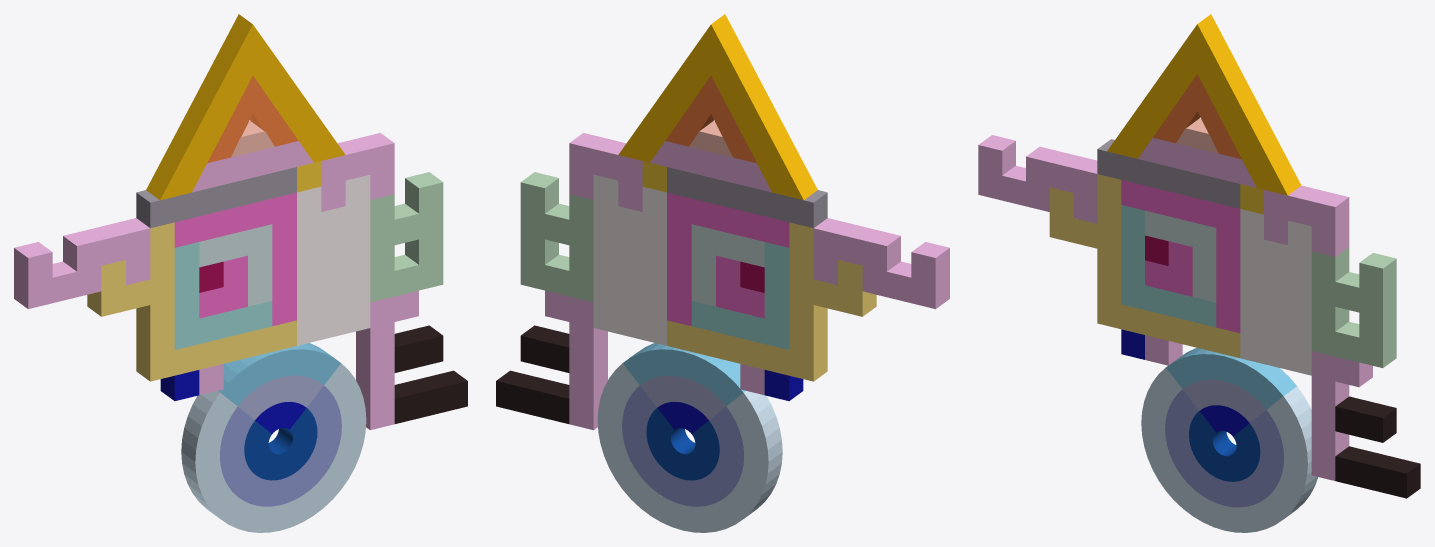
Rendered from JU CHUNG_V2.glb.
3 views of the same model, side by side, from view 1: azimuth 30°, elevation 25°; view 2: azimuth 150°, elevation 25°; view 3: azimuth 330°, elevation 25° (orthographic). The views are drawn at different scales.
Parts seen in each view (by area): view 1: Pieces.020, Pieces.024, Pieces.002, Pieces.006, Pieces.008, Pieces.018, Pieces.001, Pieces.004, Pieces.009, Pieces.013, Pieces.012, Pieces.010 (+19 smaller); view 2: Pieces.020, Pieces.024, Pieces.002, Pieces.006, Pieces.008, Pieces.018, Pieces.001, Pieces.004, Pieces.009, Pieces.013, Pieces.012, Pieces.010 (+19 smaller); view 3: Pieces.020, Pieces.024, Pieces.006, Pieces.002, Pieces.008, Pieces.018, Pieces.001, Pieces.007, Pieces.004, Pieces.009, Pieces.025, Pieces.013 (+19 smaller).
Boxes of the visible parts, <box> form: Pieces.020: <box>146,14,345,200</box>; Pieces.024: <box>181,363,366,532</box>; Pieces.002: <box>136,222,296,381</box>; Pieces.006: <box>370,172,443,302</box>; Pieces.008: <box>14,218,150,308</box>; Pieces.018: <box>220,386,341,506</box>; Pieces.001: <box>174,192,296,326</box>; Pieces.004: <box>174,242,272,349</box>; Pieces.009: <box>297,186,345,320</box>; Pieces.013: <box>136,167,296,228</box>; Pieces.012: <box>356,296,394,430</box>; Pieces.010: <box>321,175,370,308</box>; Pieces.020: <box>618,14,817,200</box>; Pieces.024: <box>597,363,782,532</box>; Pieces.002: <box>667,222,827,381</box>; Pieces.006: <box>520,172,593,302</box>; Pieces.008: <box>813,218,949,309</box>; Pieces.018: <box>622,386,743,506</box>; Pieces.001: <box>667,192,789,326</box>; Pieces.004: <box>691,242,789,349</box>; Pieces.009: <box>618,186,666,320</box>; Pieces.013: <box>667,167,827,228</box>; Pieces.012: <box>569,296,607,430</box>; Pieces.010: <box>593,175,642,308</box>; Pieces.020: <box>1107,14,1301,195</box>; Pieces.024: <box>1141,367,1318,532</box>; Pieces.006: <box>1311,247,1396,367</box>; Pieces.002: <box>1097,174,1240,358</box>; Pieces.008: <box>978,135,1097,223</box>; Pieces.018: <box>1165,389,1283,507</box>; Pieces.001: <box>1121,180,1240,333</box>; Pieces.007: <box>1264,185,1349,256</box>; Pieces.004: <box>1121,205,1216,327</box>; Pieces.009: <box>1240,209,1287,338</box>; Pieces.025: <box>1166,348,1296,409</box>; Pieces.013: <box>1097,139,1240,208</box>.
Size of the model in its own units: 1.8 by 2.01 by 0.1.
